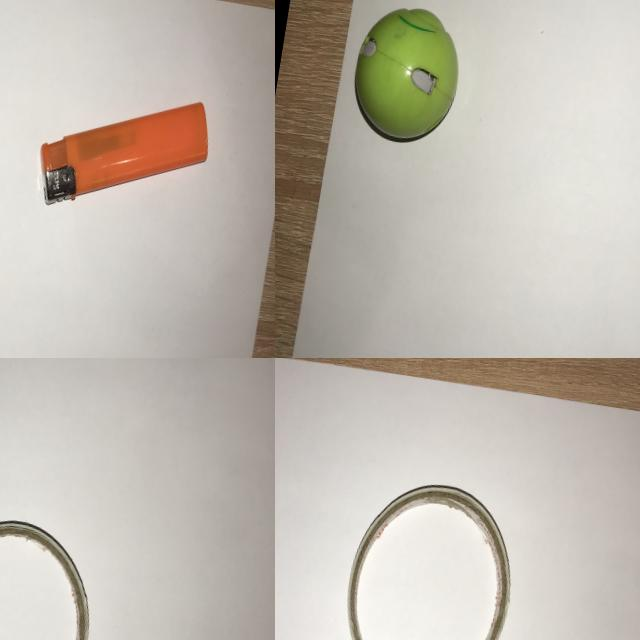lighter: (23, 70, 222, 236)
scotch: (325, 465, 530, 640), (0, 502, 108, 640)
toy: (339, 0, 472, 158)
